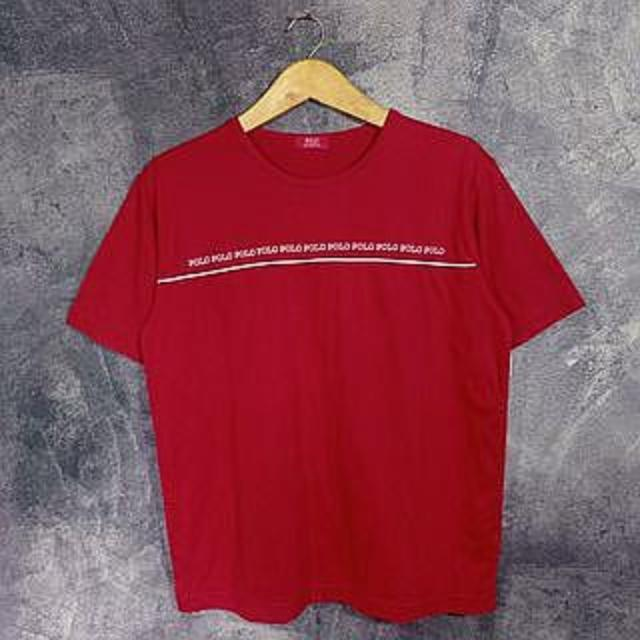T_SHIRT: (57, 104, 579, 632)
